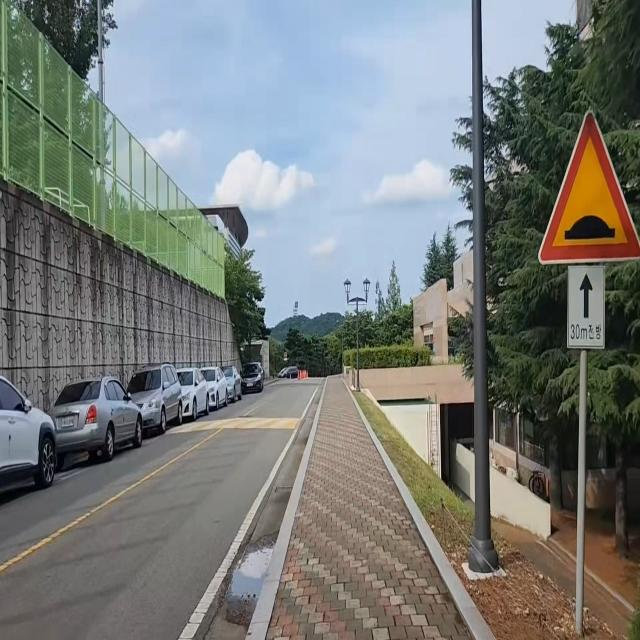obstacle: (539, 111, 640, 640), (467, 6, 501, 572)
road: (0, 384, 324, 640)
sidewalk: (243, 375, 499, 640)
